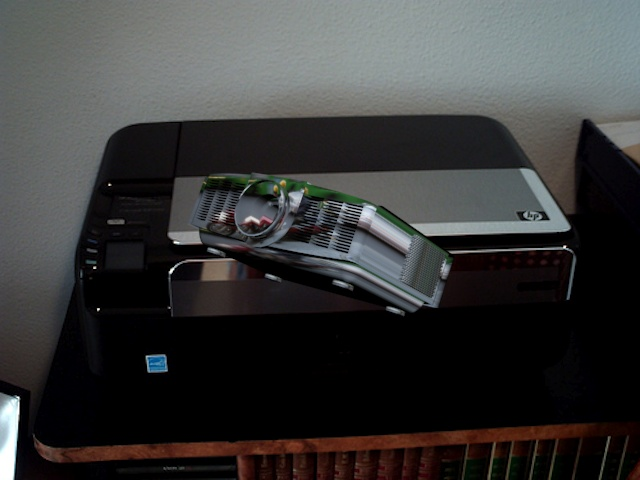projector: (177, 161, 464, 321)
